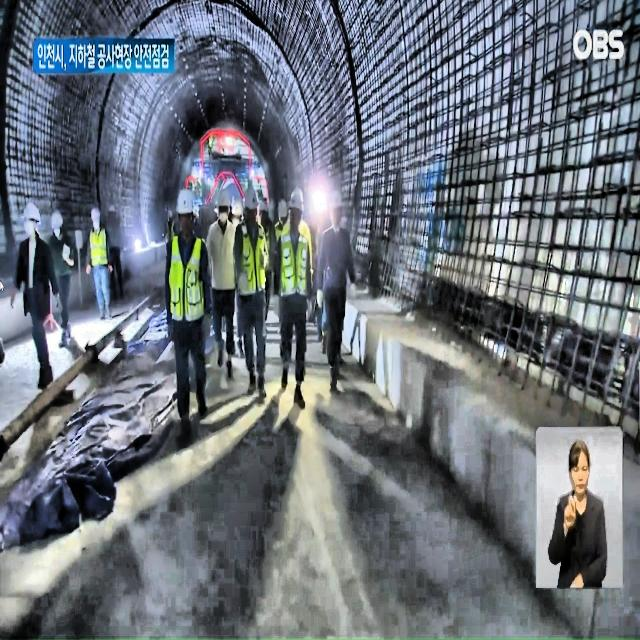safety_helmet: (174, 182, 200, 220), (241, 181, 262, 211), (287, 184, 307, 212), (212, 186, 233, 208), (326, 181, 344, 206), (48, 205, 67, 227), (19, 198, 40, 215), (275, 192, 290, 215), (87, 206, 104, 221)
safety_jacket: (167, 238, 205, 322), (282, 226, 312, 306), (237, 226, 270, 289), (89, 230, 111, 270)
